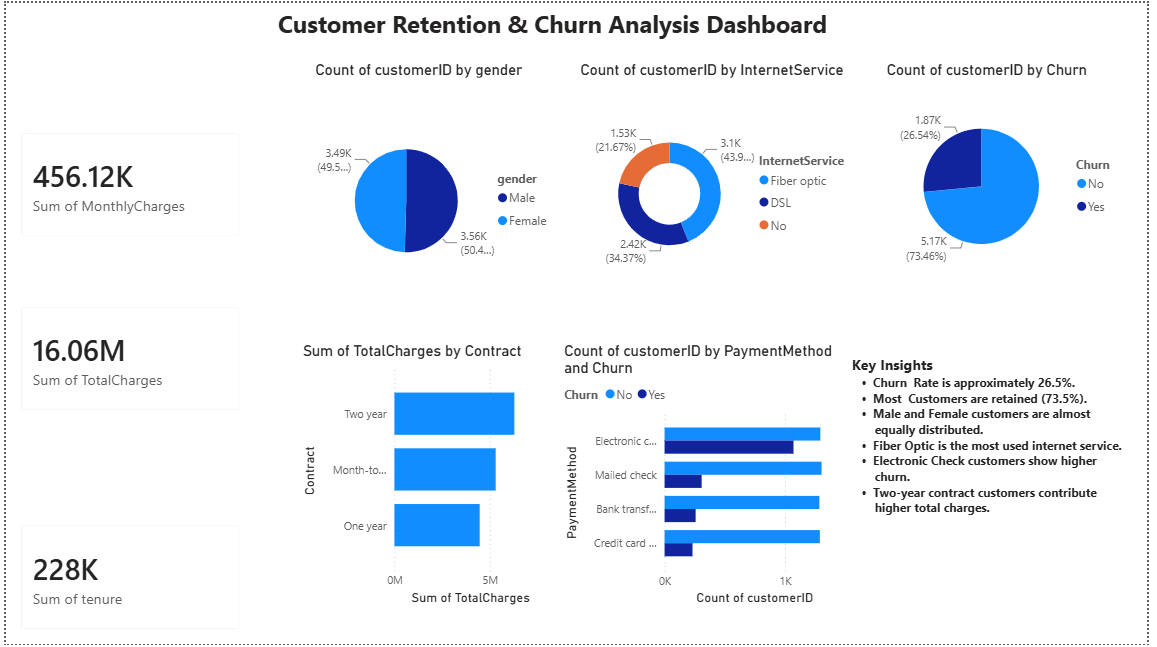

What the dashboard file says about the page in this screenshot:
{"tool":"powerbi","page":{"name":"Page 3","canvas":[1280,720],"ordinal":0},"visuals":[{"type":"pieChart","fields":{"Category":["Telco-Customer-Churn.gender"],"Y":["CountNonNull(Telco-Customer-Churn.customerID)"]},"box":[342.2,64.5,279.1,295.9],"z":0},{"type":"donutChart","fields":{"Y":["CountNonNull(Telco-Customer-Churn.customerID)"],"Category":["Telco-Customer-Churn.InternetService"]},"box":[639.4,64.5,314.1,280.5],"z":1000},{"type":"pieChart","fields":{"Category":["Telco-Customer-Churn.Churn"],"Y":["CountNonNull(Telco-Customer-Churn.customerID)"]},"box":[983,64.5,280.5,263.6],"z":2000},{"type":"cardVisual","fields":{"Data":["Sum(Telco-Customer-Churn.MonthlyCharges)"]},"box":[0,129,279.9,150.9],"z":3000},{"type":"cardVisual","fields":{"Data":["Sum(Telco-Customer-Churn.TotalCharges)"]},"box":[0,323.8,279.9,150.9],"z":4000},{"type":"cardVisual","fields":{"Data":["Sum(Telco-Customer-Churn.tenure)"]},"box":[0,569.5,279.9,150.9],"z":5000},{"type":"barChart","fields":{"Category":["Telco-Customer-Churn.Contract"],"Y":["Sum(Telco-Customer-Churn.TotalCharges)"]},"box":[328.1,380,293.1,300.1],"z":5001},{"type":"clusteredBarChart","fields":{"Category":["Telco-Customer-Churn.PaymentMethod"],"Y":["CountNonNull(Telco-Customer-Churn.customerID)"],"Series":["Telco-Customer-Churn.Churn"]},"box":[621.2,380,332.3,300.1],"z":5002},{"type":"textbox","box":[300.1,0,980.2,51.9],"z":5003},{"type":"textbox","box":[943.7,389.8,319.7,315.5],"z":5004}]}

Visuals, with their boxes in screenshot pixels (x1, y1, x2, y2), scaled from the page's 1280x720 canvas onto the 1157x647 screenshot:
pieChart - Telco-Customer-Churn.gender x CountNonNull(Telco-Customer-Churn.customerID): 309:58:562:324
donutChart - CountNonNull(Telco-Customer-Churn.customerID) x Telco-Customer-Churn.InternetService: 578:58:862:310
pieChart - Telco-Customer-Churn.Churn x CountNonNull(Telco-Customer-Churn.customerID): 889:58:1142:295
cardVisual - Sum(Telco-Customer-Churn.MonthlyCharges): 0:116:253:252
cardVisual - Sum(Telco-Customer-Churn.TotalCharges): 0:291:253:427
cardVisual - Sum(Telco-Customer-Churn.tenure): 0:512:253:646
barChart - Telco-Customer-Churn.Contract x Sum(Telco-Customer-Churn.TotalCharges): 297:341:562:611
clusteredBarChart - Telco-Customer-Churn.PaymentMethod x CountNonNull(Telco-Customer-Churn.customerID): 562:341:862:611
textbox: 271:0:1156:47
textbox: 853:350:1142:634
